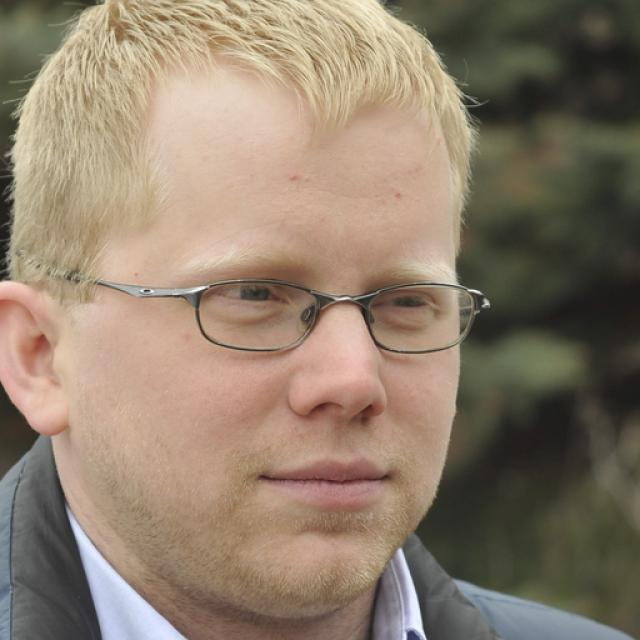Acne: (282, 160, 307, 190), (384, 185, 416, 206)
